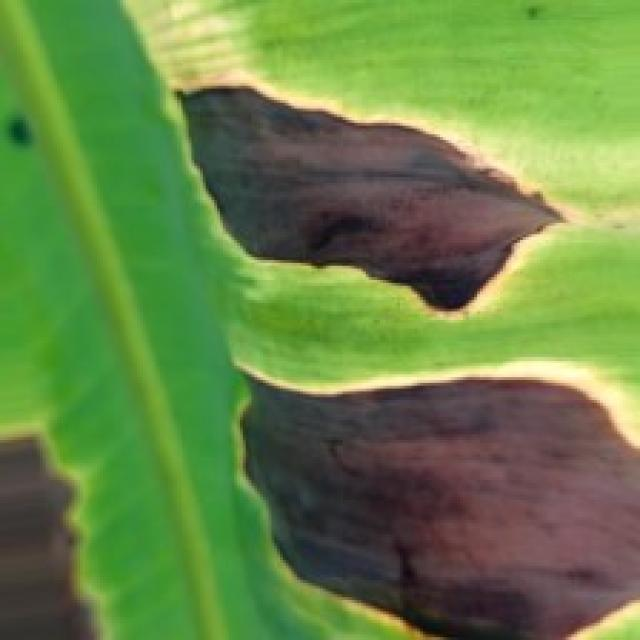Bacterial_spot: (213, 336, 640, 640), (157, 68, 574, 328), (0, 371, 120, 640), (0, 100, 46, 154), (520, 3, 557, 24)
